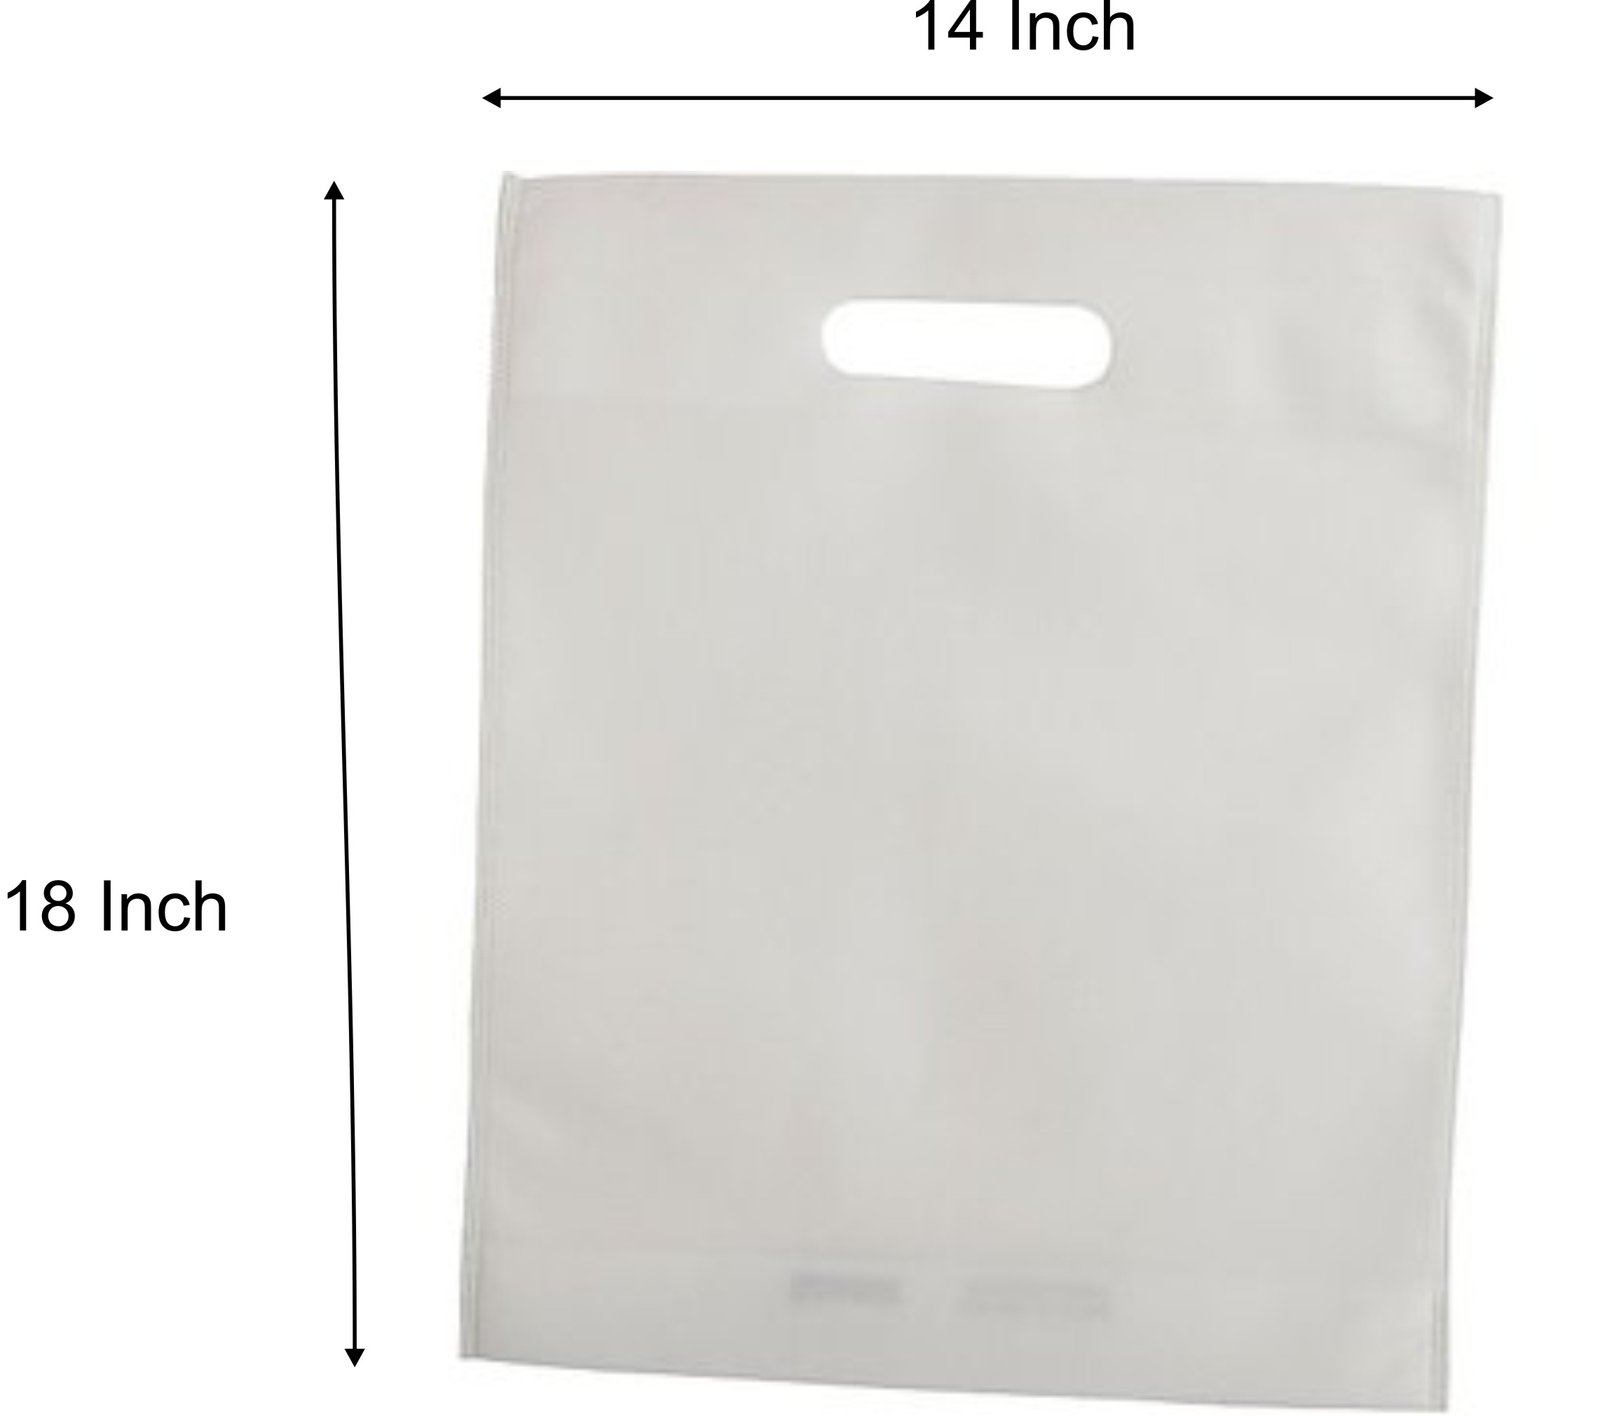carrybag: (438, 156, 1459, 1416)
